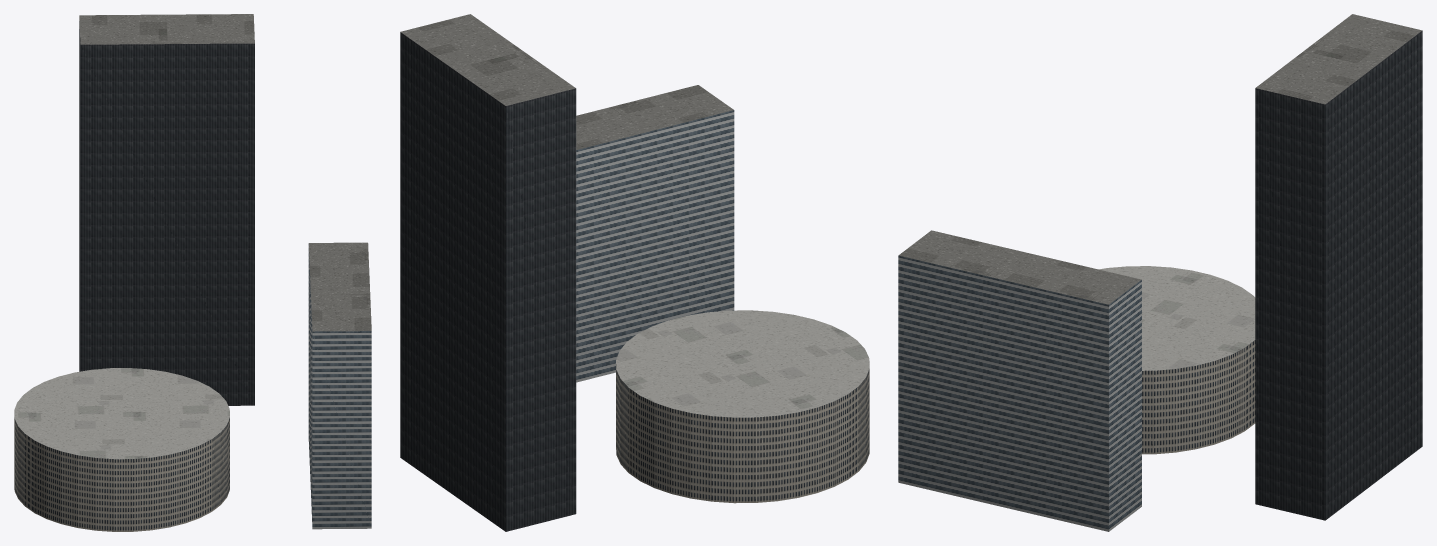
Rendered from penn.glb.
The picture shows the model from 3 angles, left to right: view 1: azimuth 30°, elevation 25°; view 2: azimuth 150°, elevation 25°; view 3: azimuth 270°, elevation 25°; orthographic projection. The views are drawn at different scales.
Parts seen in each view (by area): view 1: penn; view 2: penn; view 3: penn.
Part boxes in pixels (<box>): penn: <box>14,14,371,531</box>; penn: <box>400,14,869,531</box>; penn: <box>898,14,1422,531</box>.
Size of the model in its own units: 215 by 229 by 261.
6 materials, 6 textured.
